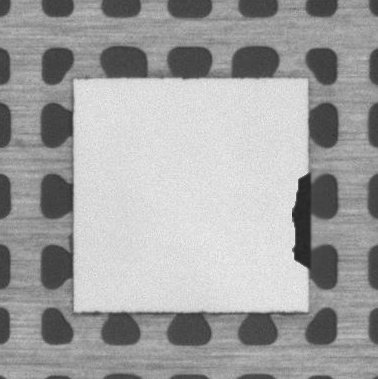DIE_BROKEN: (289, 169, 313, 271)
